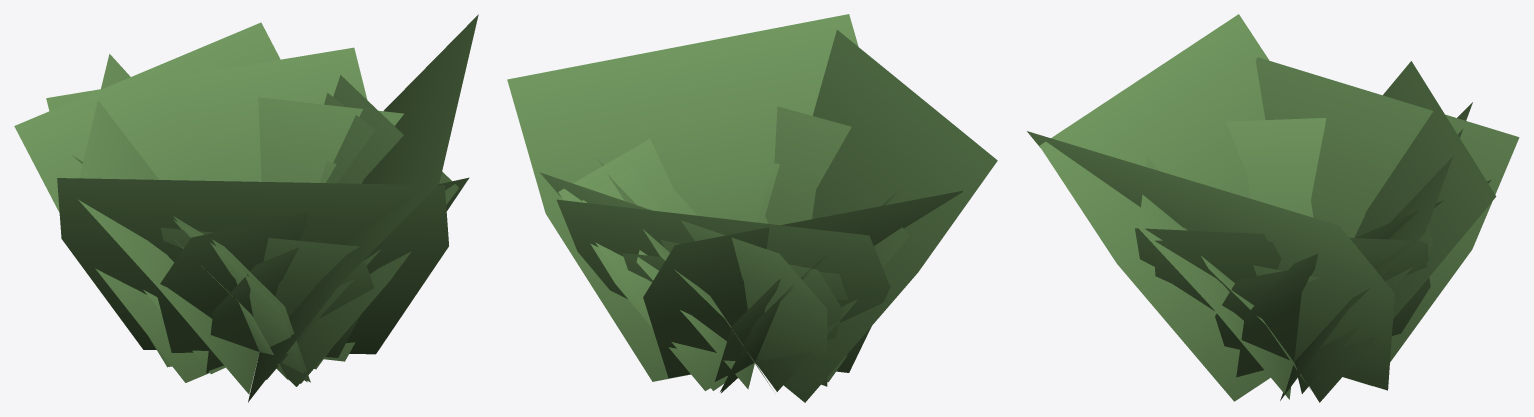
Rendered from shrub.glb.
The picture shows the model from 3 angles, left to right: view 1: azimuth 30°, elevation 25°; view 2: azimuth 150°, elevation 25°; view 3: azimuth 270°, elevation 25°; orthographic projection. The views are drawn at different scales.
Visible parts, largest first — view 1: A_lod0, B_lod0; view 2: A_lod0, B_lod0; view 3: A_lod0, B_lod0.
Part boxes in pixels (box(x1,y1,x2,y2)): A_lod0: box(14, 14, 478, 402); B_lod0: box(143, 93, 392, 383); A_lod0: box(507, 14, 997, 402); B_lod0: box(580, 163, 908, 391); A_lod0: box(1027, 14, 1519, 402); B_lod0: box(1154, 124, 1433, 393).
Size of what is drawn, in the model's own units: 1.52 by 0.8022 by 1.44.
